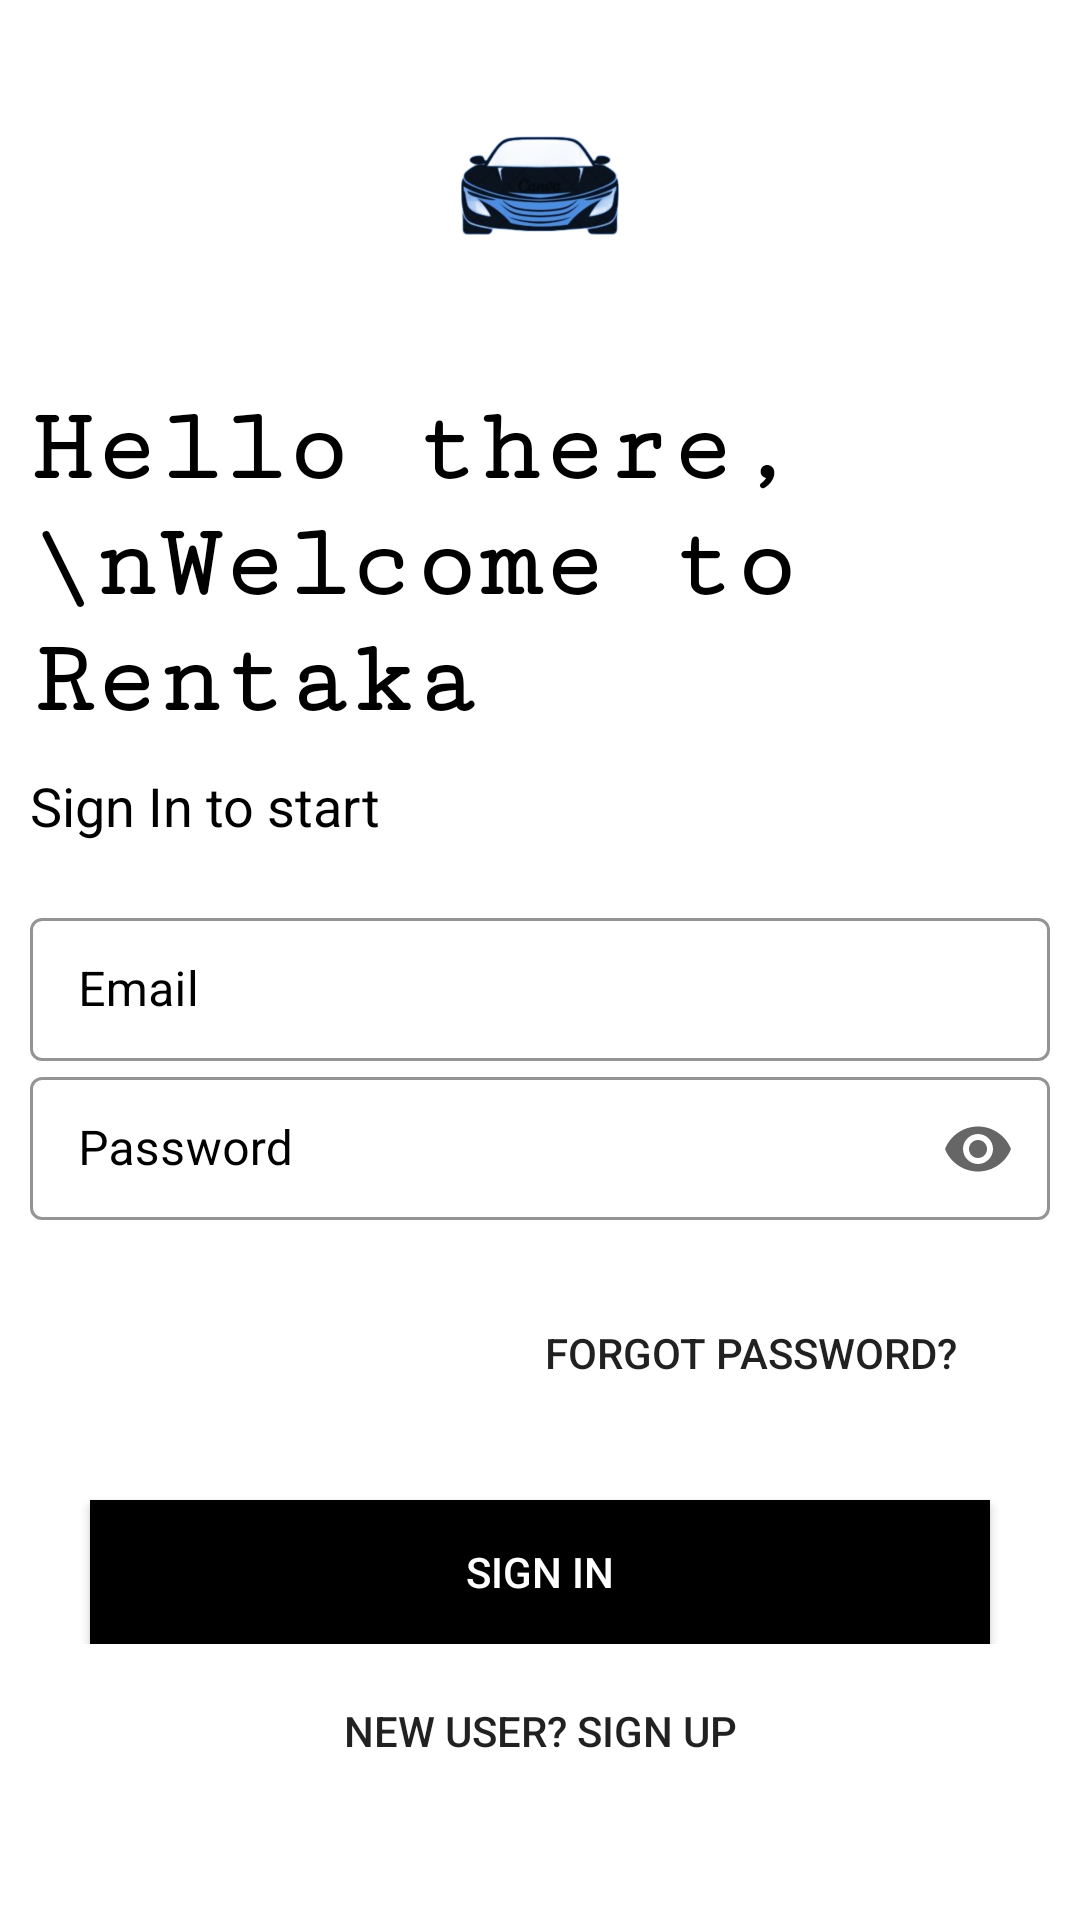

Screen size 1080w x 1920h. Icon name, then its box in pixels as (x1,y1,x2,y2):
car: (461,136,619,235)
